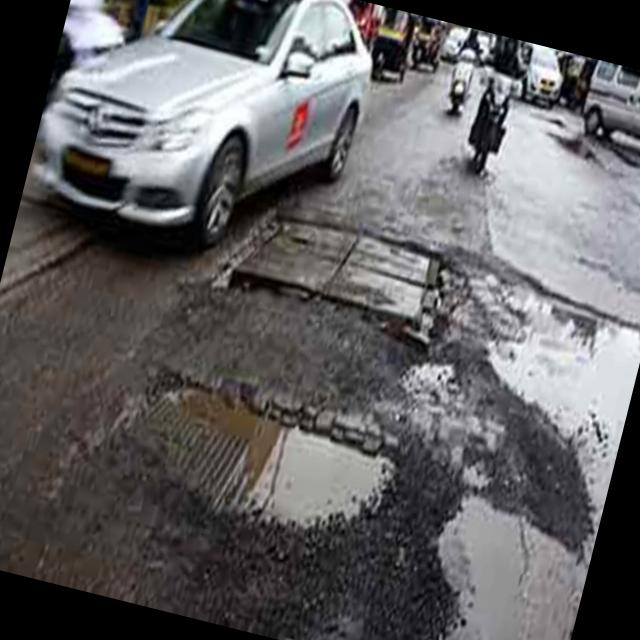Potholes: (392, 264, 640, 640), (107, 332, 416, 564)
